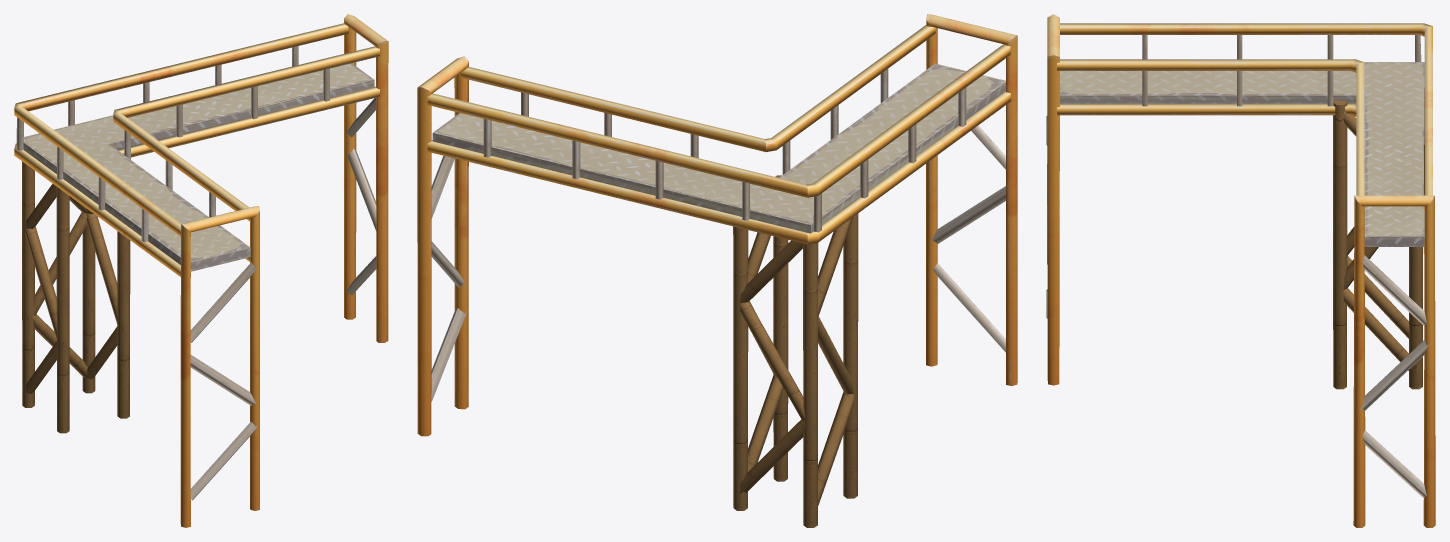
Rendered from Pfb_Scaffold.fbx.
3 views of the same model, side by side, from view 1: azimuth 30°, elevation 25°; view 2: azimuth 150°, elevation 25°; view 3: azimuth 270°, elevation 25° (orthographic). The views are drawn at different scales.
Visible parts, largest first — view 1: OutDoor_New, Mat_BarbedWire_01_D 2; view 2: OutDoor_New, Mat_BarbedWire_01_D 2; view 3: OutDoor_New, Mat_BarbedWire_01_D 2.
Boxes of the visible parts, left/top/right/bottom form: OutDoor_New: left=14, top=14, right=388, bottom=527; Mat_BarbedWire_01_D 2: left=22, top=153, right=130, bottom=433; OutDoor_New: left=417, top=14, right=1017, bottom=436; Mat_BarbedWire_01_D 2: left=733, top=175, right=858, bottom=527; OutDoor_New: left=1046, top=14, right=1435, bottom=527; Mat_BarbedWire_01_D 2: left=1333, top=100, right=1422, bottom=389.
Bounding box in the file's own units: 6.97 × 5.88 × 6.21.
Materials: 2 (2 with a texture image).
